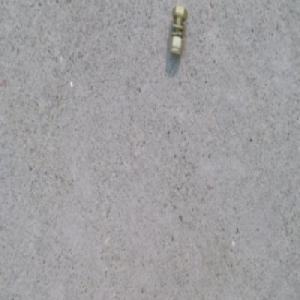BoltNutSet: (165, 6, 188, 56)
